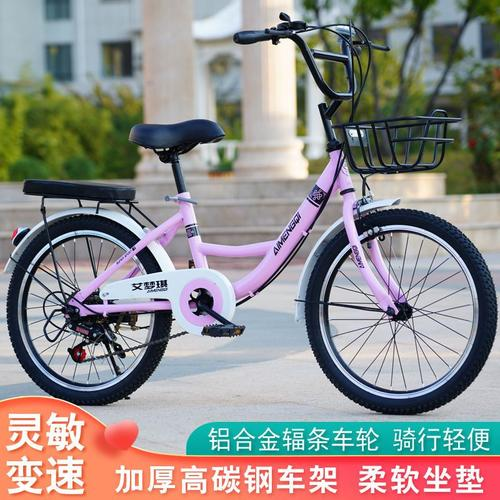单车: (8, 5, 500, 417)
